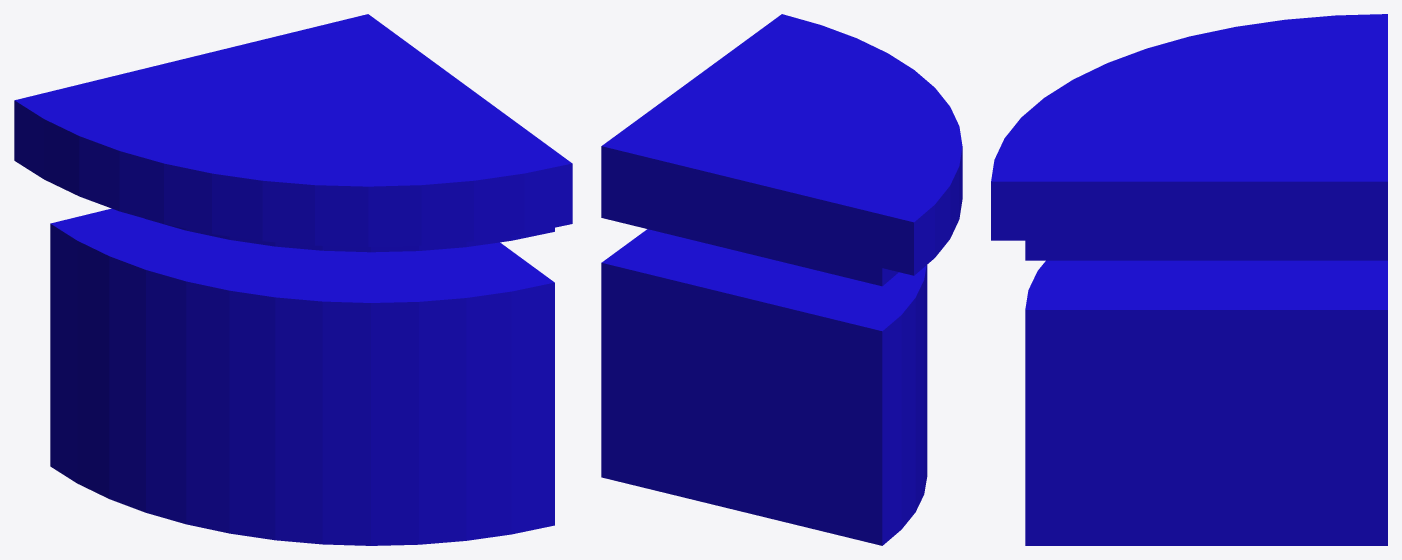
The model's file is Mesh_Counter_Corner_R.fbx.
3 renders of one model, left to right at view 1: azimuth 30°, elevation 25°; view 2: azimuth 150°, elevation 25°; view 3: azimuth 270°, elevation 25°, orthographic. The views are drawn at different scales.
Parts seen in each view (by area): view 1: CornerR_SGCabinet.002; view 2: CornerR_SGCabinet.002; view 3: CornerR_SGCabinet.002.
Part boxes in pixels (box(x1,y1,x2,y2)): CornerR_SGCabinet.002: box(14, 14, 572, 545); CornerR_SGCabinet.002: box(601, 14, 962, 545); CornerR_SGCabinet.002: box(991, 14, 1387, 545).
Bounding box in the file's own units: 236 × 238 × 236.
